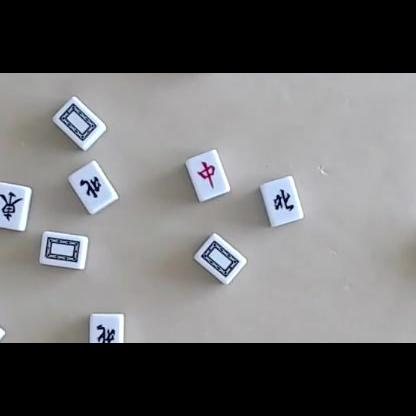1z: (0, 190, 23, 221)
4z: (79, 176, 102, 199), (273, 188, 294, 213), (96, 323, 115, 343)
5z: (59, 103, 97, 142), (201, 241, 240, 278), (45, 236, 80, 263)
7z: (198, 160, 216, 190)
